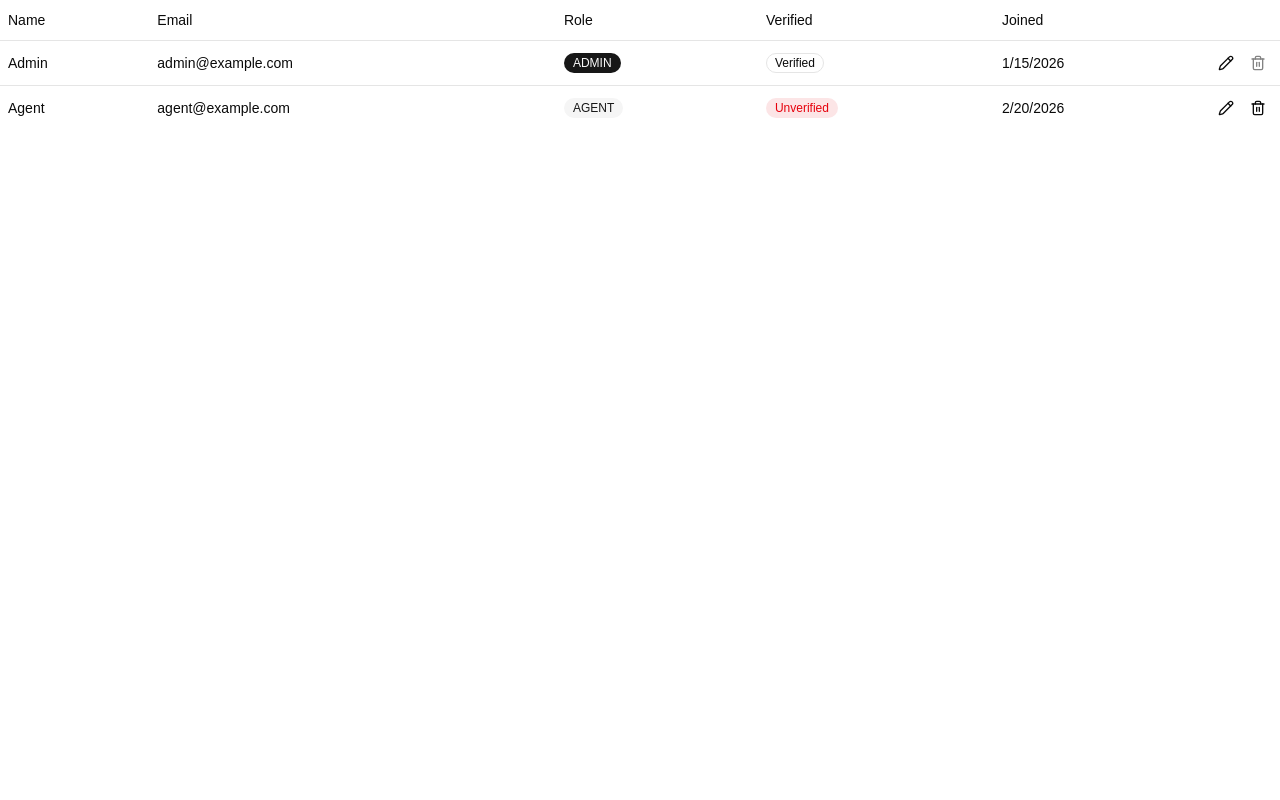
Scenario: UsersTable › opens a single shared delete confirmation for the clicked row's user, and removes the row once confirmed
Expected: the table is shown, top-left (0, 0), bottom-right (1279, 130)
Click the 4th button named "Delete Agent" at (1258, 108), box top-left (1244, 94), bottom-right (1272, 122)
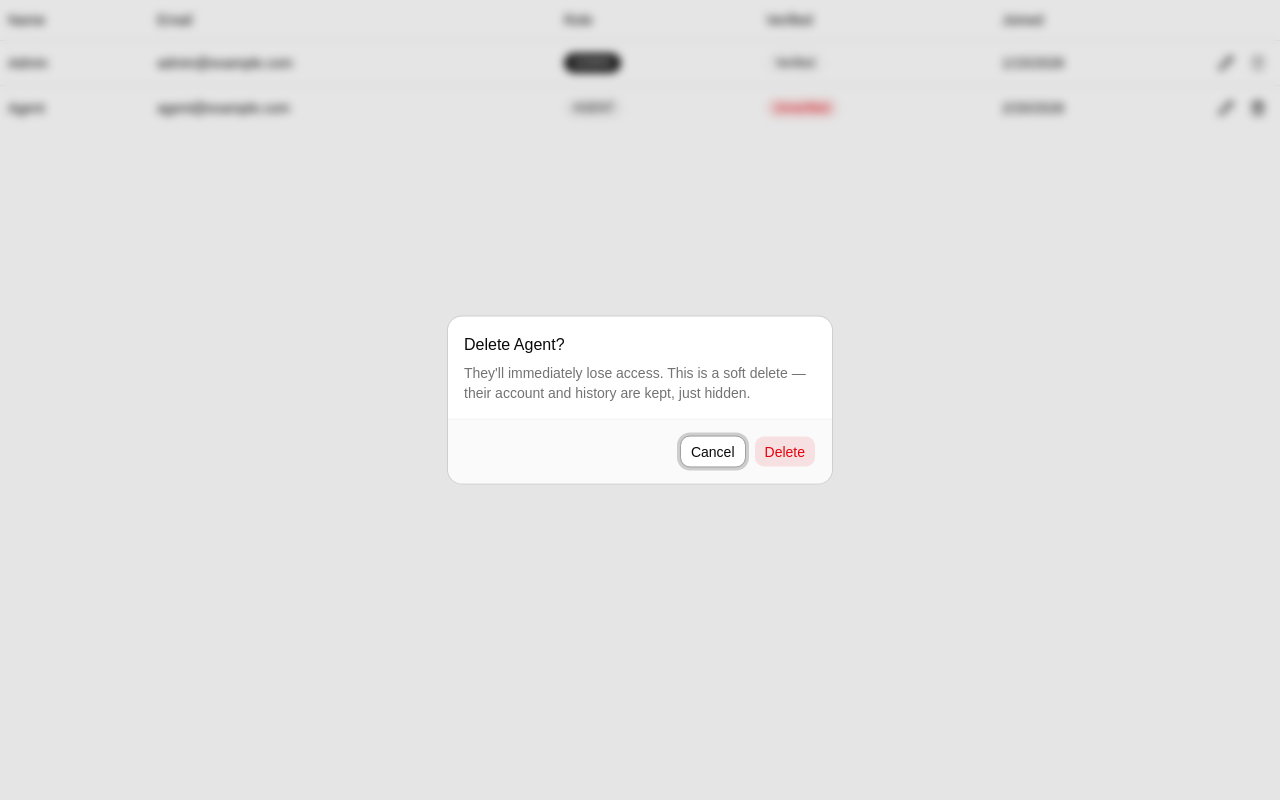
Expected: the number of dialogs is 1, top-left (448, 316), bottom-right (832, 484)
Expected: the heading "Delete Agent?" is shown, top-left (464, 332), bottom-right (564, 356)
Click the button "Delete" at (785, 452), box top-left (754, 436), bottom-right (816, 468)
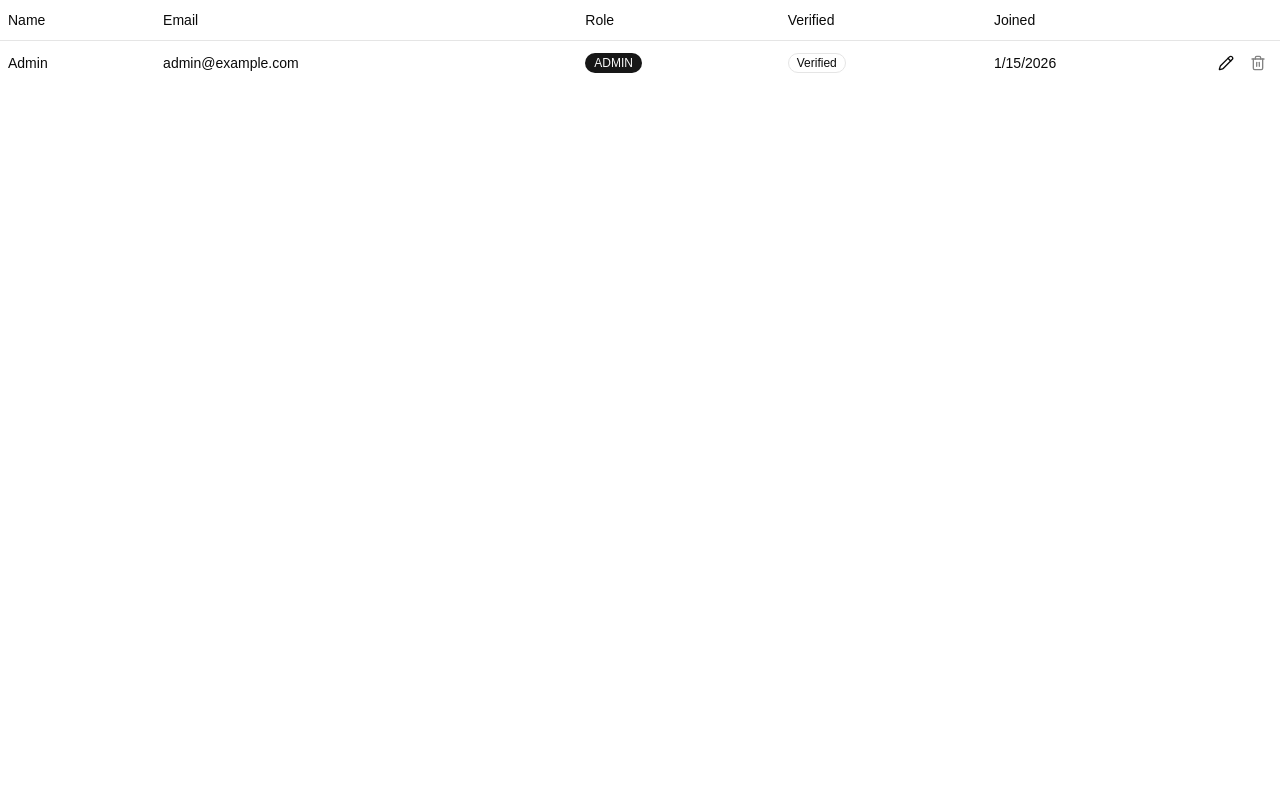
Expected: the dialog is gone
Expected: the text "Agent" is gone
